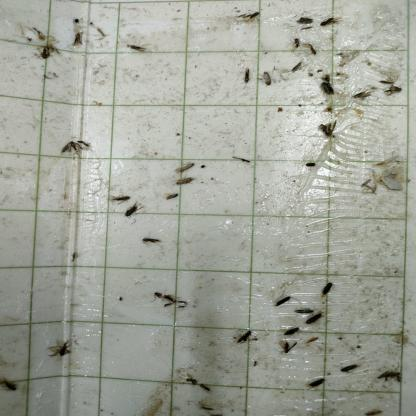prays_oleae: (46, 329, 77, 361), (155, 279, 179, 313), (235, 326, 254, 362), (61, 133, 80, 166), (376, 366, 404, 388), (123, 198, 147, 221), (342, 348, 358, 380), (304, 311, 328, 332), (319, 70, 335, 100), (182, 366, 198, 395), (140, 229, 162, 250), (319, 117, 339, 140), (107, 186, 131, 205), (122, 39, 147, 57), (380, 78, 400, 98), (290, 52, 304, 80), (354, 82, 368, 110), (318, 281, 334, 302), (174, 175, 196, 190), (274, 292, 292, 310), (320, 9, 336, 29), (307, 374, 327, 390), (246, 8, 260, 30), (174, 160, 196, 174), (294, 302, 312, 318), (284, 322, 302, 338), (241, 63, 251, 90), (260, 66, 272, 88), (278, 341, 291, 361), (295, 16, 311, 32), (302, 156, 316, 174), (166, 189, 180, 206), (202, 372, 212, 394), (74, 34, 84, 50)
